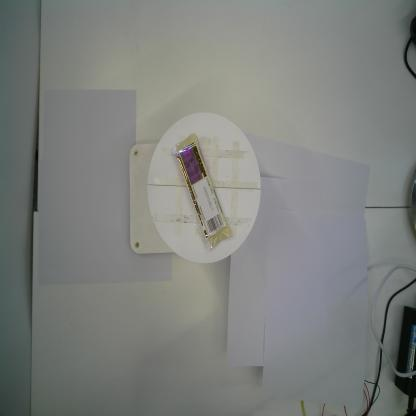Chocolate: (170, 132, 233, 252)
